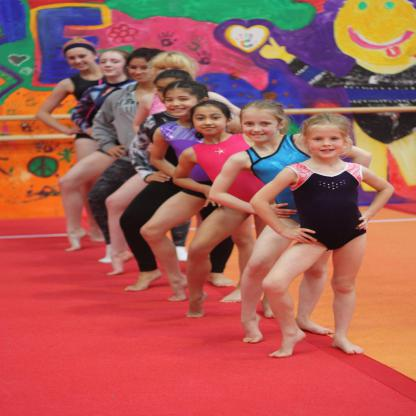face: (310, 126, 346, 159), (244, 110, 277, 142), (194, 108, 225, 137), (149, 60, 182, 84), (131, 57, 157, 85), (168, 91, 194, 116), (159, 76, 184, 100), (70, 48, 93, 72), (101, 54, 125, 77)
